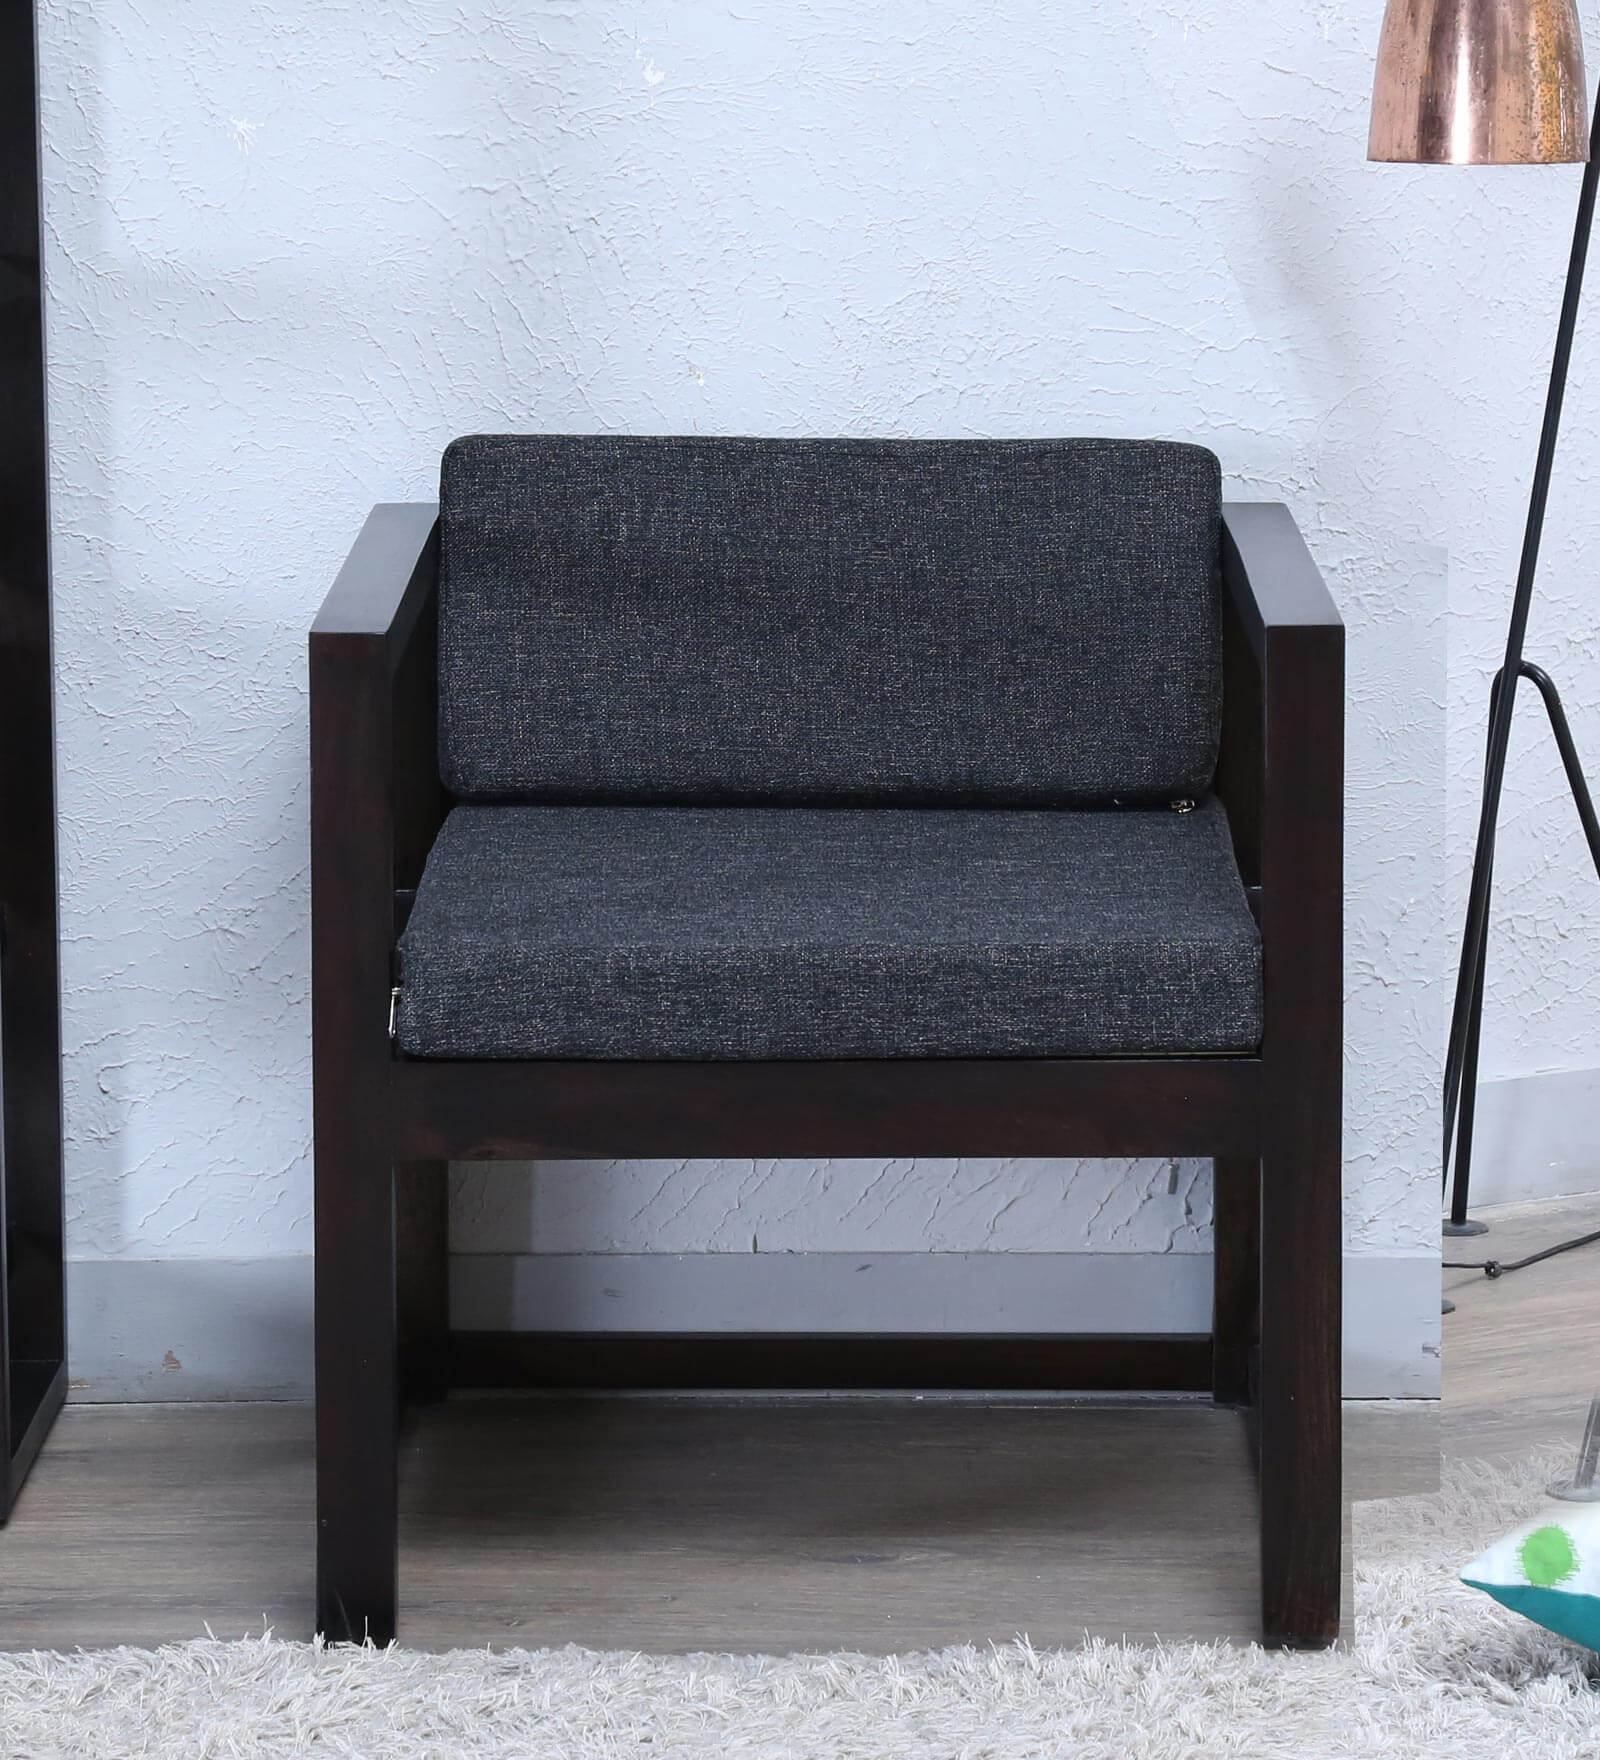Avian Arm Chair in Warm Chestnut Finish by Woodsworth: (276, 399, 1356, 1671)
